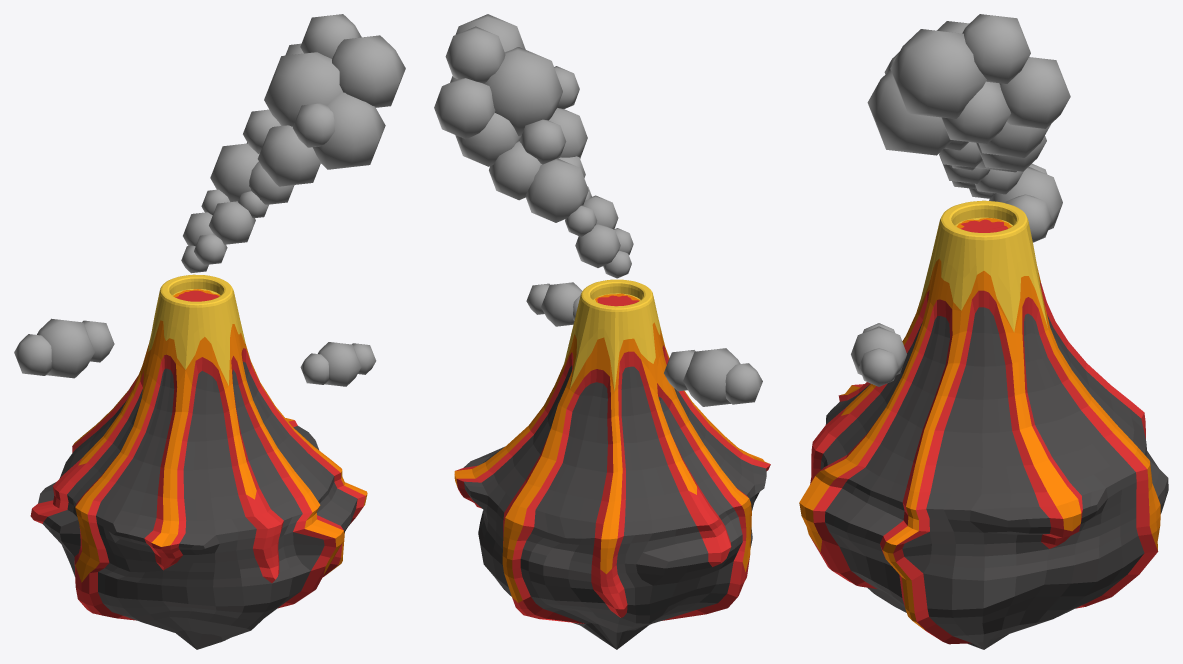
File: Island_5.fbx
3 renders of one model, left to right at view 1: azimuth 30°, elevation 25°; view 2: azimuth 150°, elevation 25°; view 3: azimuth 270°, elevation 25°, orthographic. The views are drawn at different scales.
Parts seen in each view (by area): view 1: Island_5_Volcano, Island_5; view 2: Island_5_Volcano, Island_5; view 3: Island_5_Volcano, Island_5.
Boxes of the visible parts, x1=… form: Island_5_Volcano: x1=30, y1=274, x2=367, y2=649; Island_5: x1=14, y1=14, x2=405, y2=386; Island_5_Volcano: x1=454, y1=279, x2=770, y2=649; Island_5: x1=434, y1=14, x2=762, y2=406; Island_5_Volcano: x1=799, y1=200, x2=1168, y2=649; Island_5: x1=851, y1=14, x2=1070, y2=386.
Bounding box in the file's own units: 3430 × 2647 × 5654.
